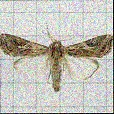Spodoptera litura: (0, 20, 114, 93)
